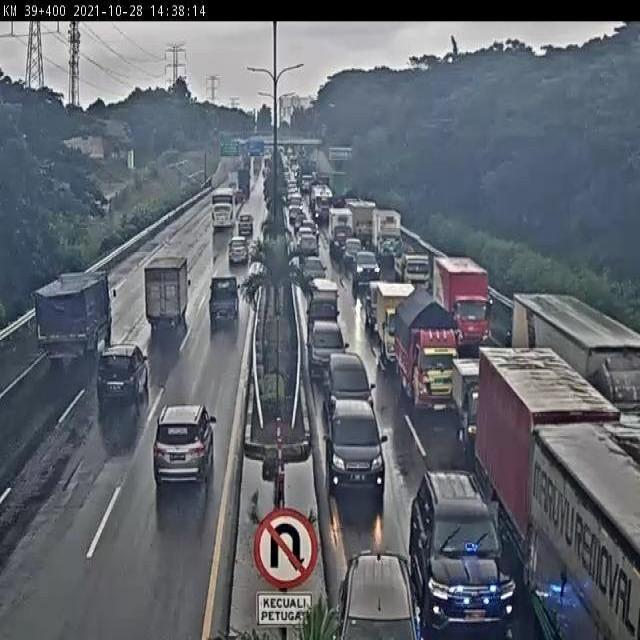big bus: (209, 183, 242, 244)
car: (416, 451, 521, 640), (142, 388, 226, 504), (327, 392, 399, 510), (93, 334, 156, 408), (324, 347, 385, 409), (310, 308, 347, 385), (351, 252, 383, 292)
small truck: (210, 267, 244, 338)
truck-l-: (512, 279, 640, 431), (430, 251, 505, 369)
truck-m-: (386, 291, 460, 422), (28, 259, 118, 352), (142, 242, 196, 337)
truck-xl-: (483, 337, 640, 640)
